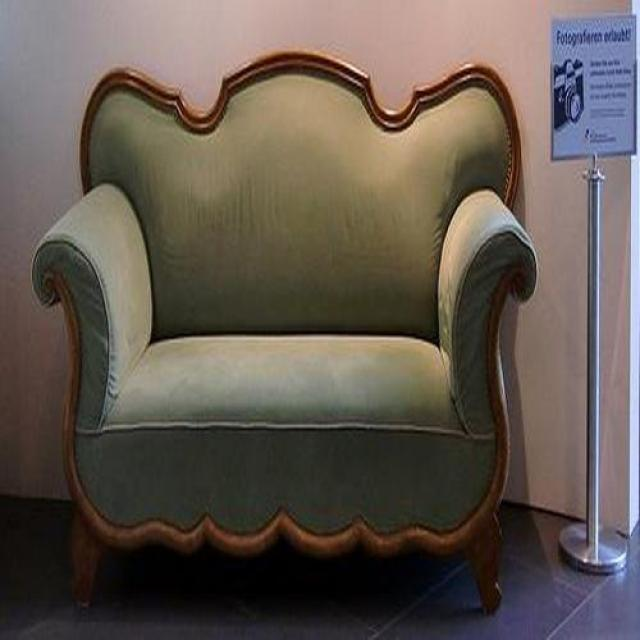sofa: (29, 51, 538, 614)
